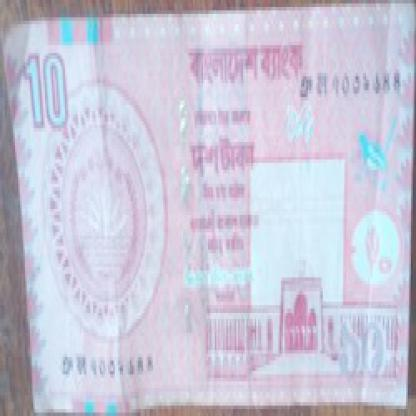Ten Taka: (14, 52, 76, 135), (336, 316, 391, 388)
